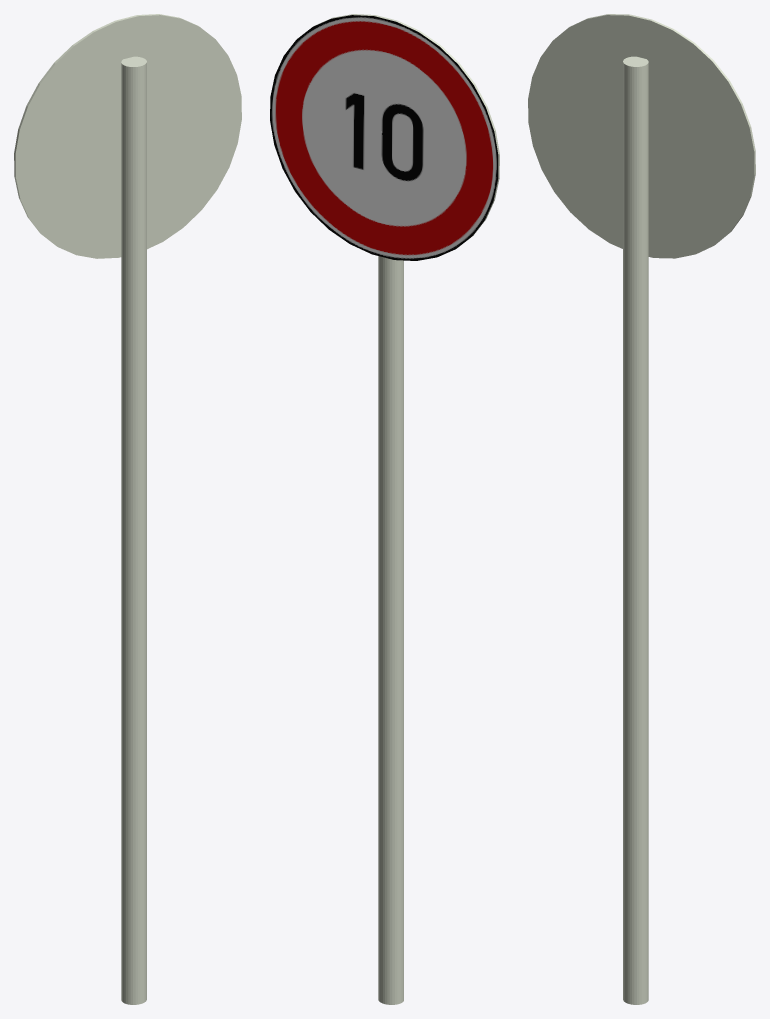
The picture shows the model from 3 angles, left to right: view 1: azimuth 30°, elevation 25°; view 2: azimuth 150°, elevation 25°; view 3: azimuth 330°, elevation 25°; orthographic projection.
Parts seen in each view (by area): view 1: Circle.009, 10_tube; view 2: Circle.009, 10_tube; view 3: Circle.009, 10_tube.
Part boxes in pixels (bbox=[...]): Circle.009: bbox=[14, 14, 241, 258]; 10_tube: bbox=[121, 56, 146, 1004]; Circle.009: bbox=[270, 14, 499, 260]; 10_tube: bbox=[378, 256, 403, 1004]; Circle.009: bbox=[528, 14, 755, 258]; 10_tube: bbox=[623, 56, 648, 1004].
Size of the model in its own units: 0.4383 by 1.81 by 0.0437.
3 materials, 1 textured.
